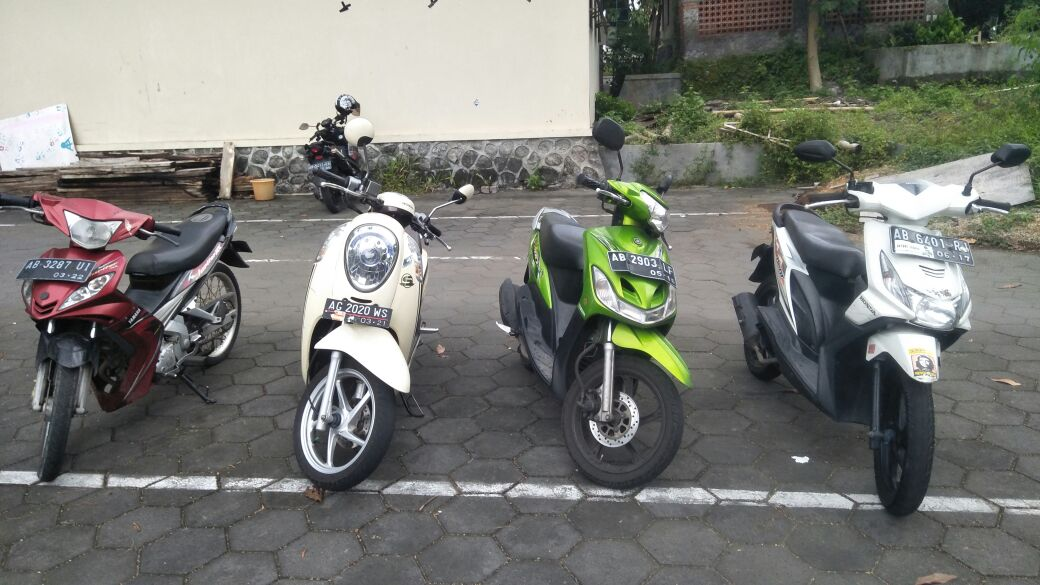plate: (889, 223, 975, 266), (608, 250, 677, 287), (323, 297, 392, 328), (15, 258, 96, 282)
